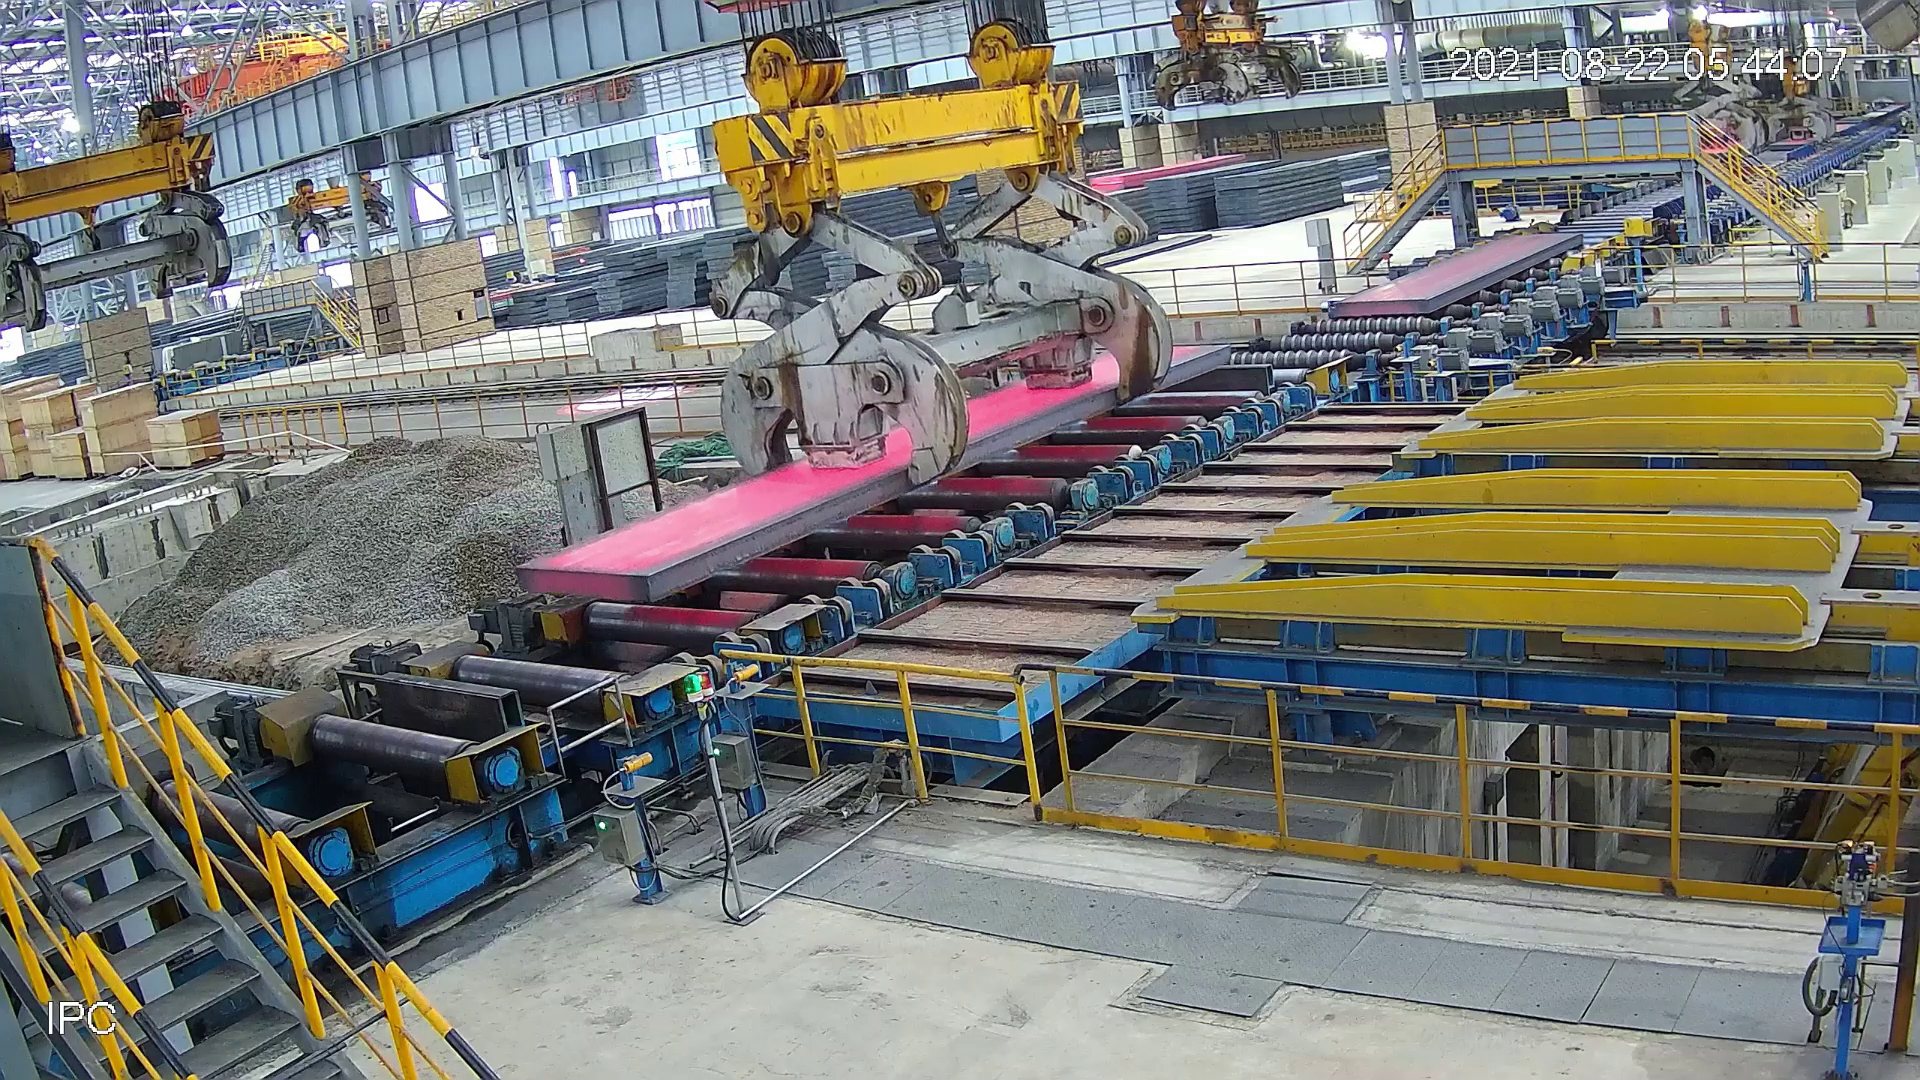crane: (1145, 1, 1317, 108)
craneandslab: (510, 17, 1242, 617)
slab: (1325, 227, 1588, 320)
